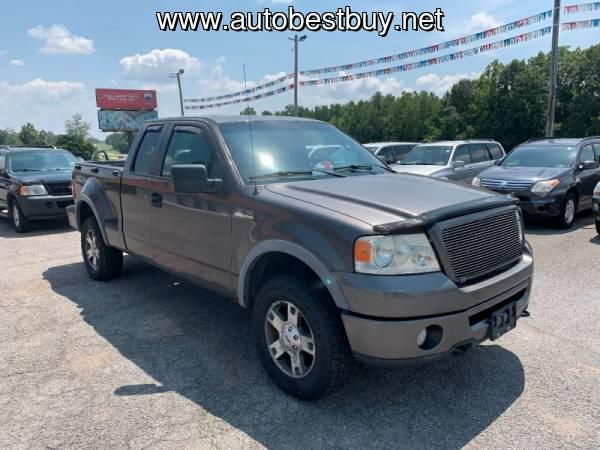Front_Bumper: (322, 246, 534, 373)
Front_Fender: (231, 183, 378, 304)
Front_Right_Door: (154, 177, 236, 302)
Front_Right_Window: (159, 126, 233, 195)
Front_Windshield: (219, 122, 391, 184)
Grille: (427, 202, 528, 284)
Hood: (263, 174, 516, 231)
Rear_Fender: (67, 162, 126, 250)
Rear_Right_Door: (123, 170, 157, 268)
Rear_Right_Window: (130, 126, 169, 177)
Right_Headlight: (355, 226, 448, 277)
Roof: (124, 115, 328, 191)
Wheel: (249, 273, 347, 398), (78, 217, 122, 281)
